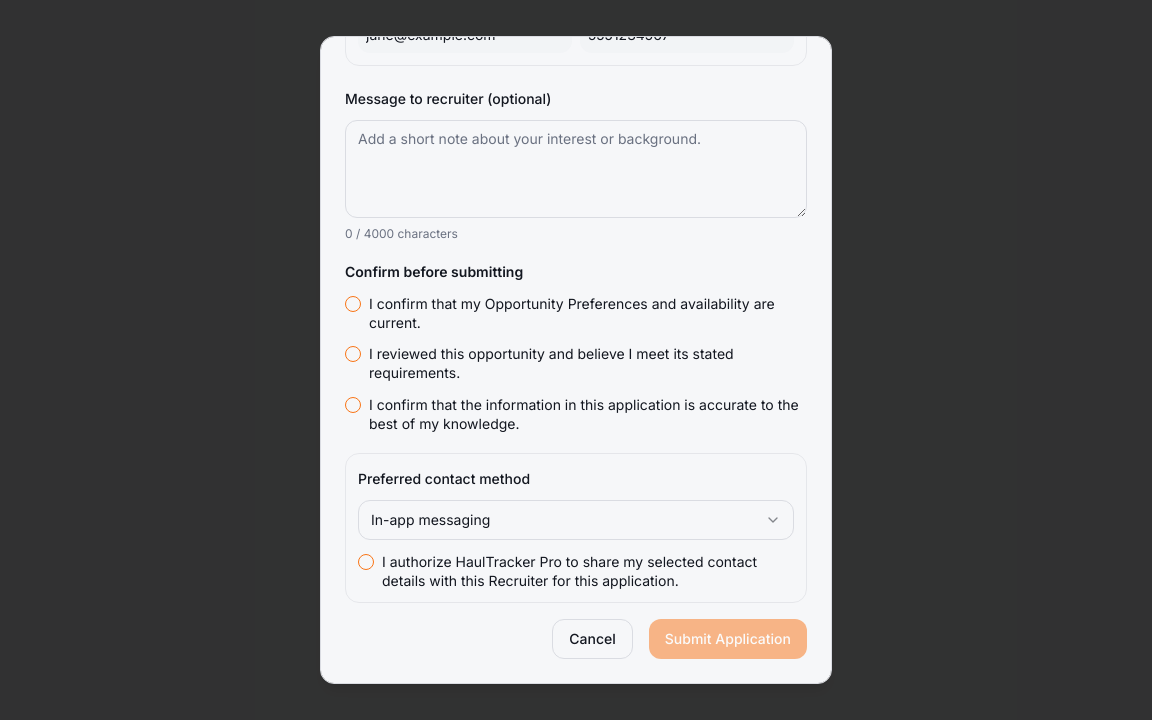
Test: ApplyNowDialog — SMS support › offers SMS only when phone is present
(page scrolled)
Click the dropdown named "Preferred contact method" at point(431, 519), box [358,500,794,540]
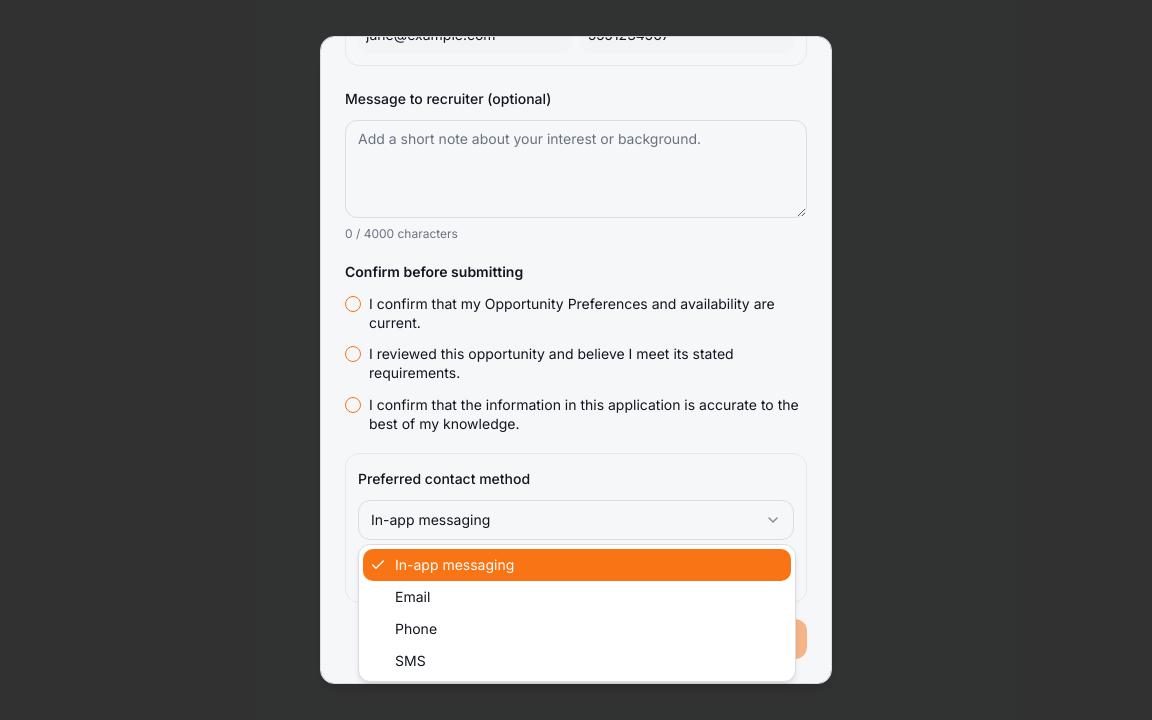
expect the option "SMS" is shown: met, box [395,652,426,669]
